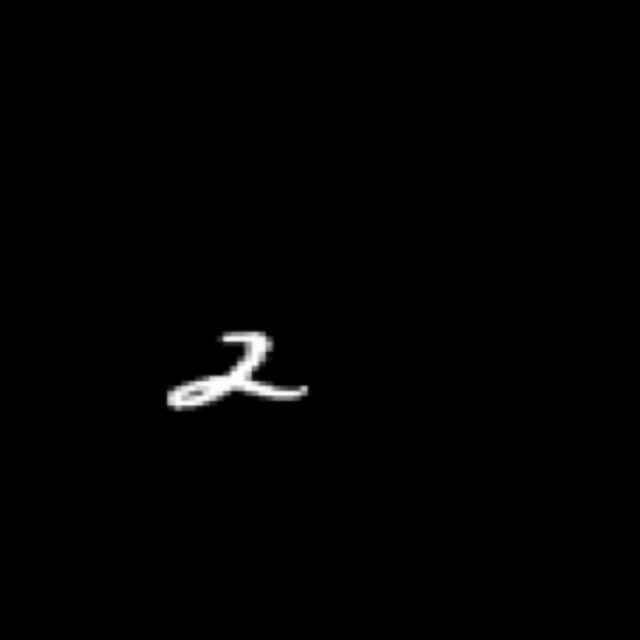two -2-: (159, 315, 320, 423)
